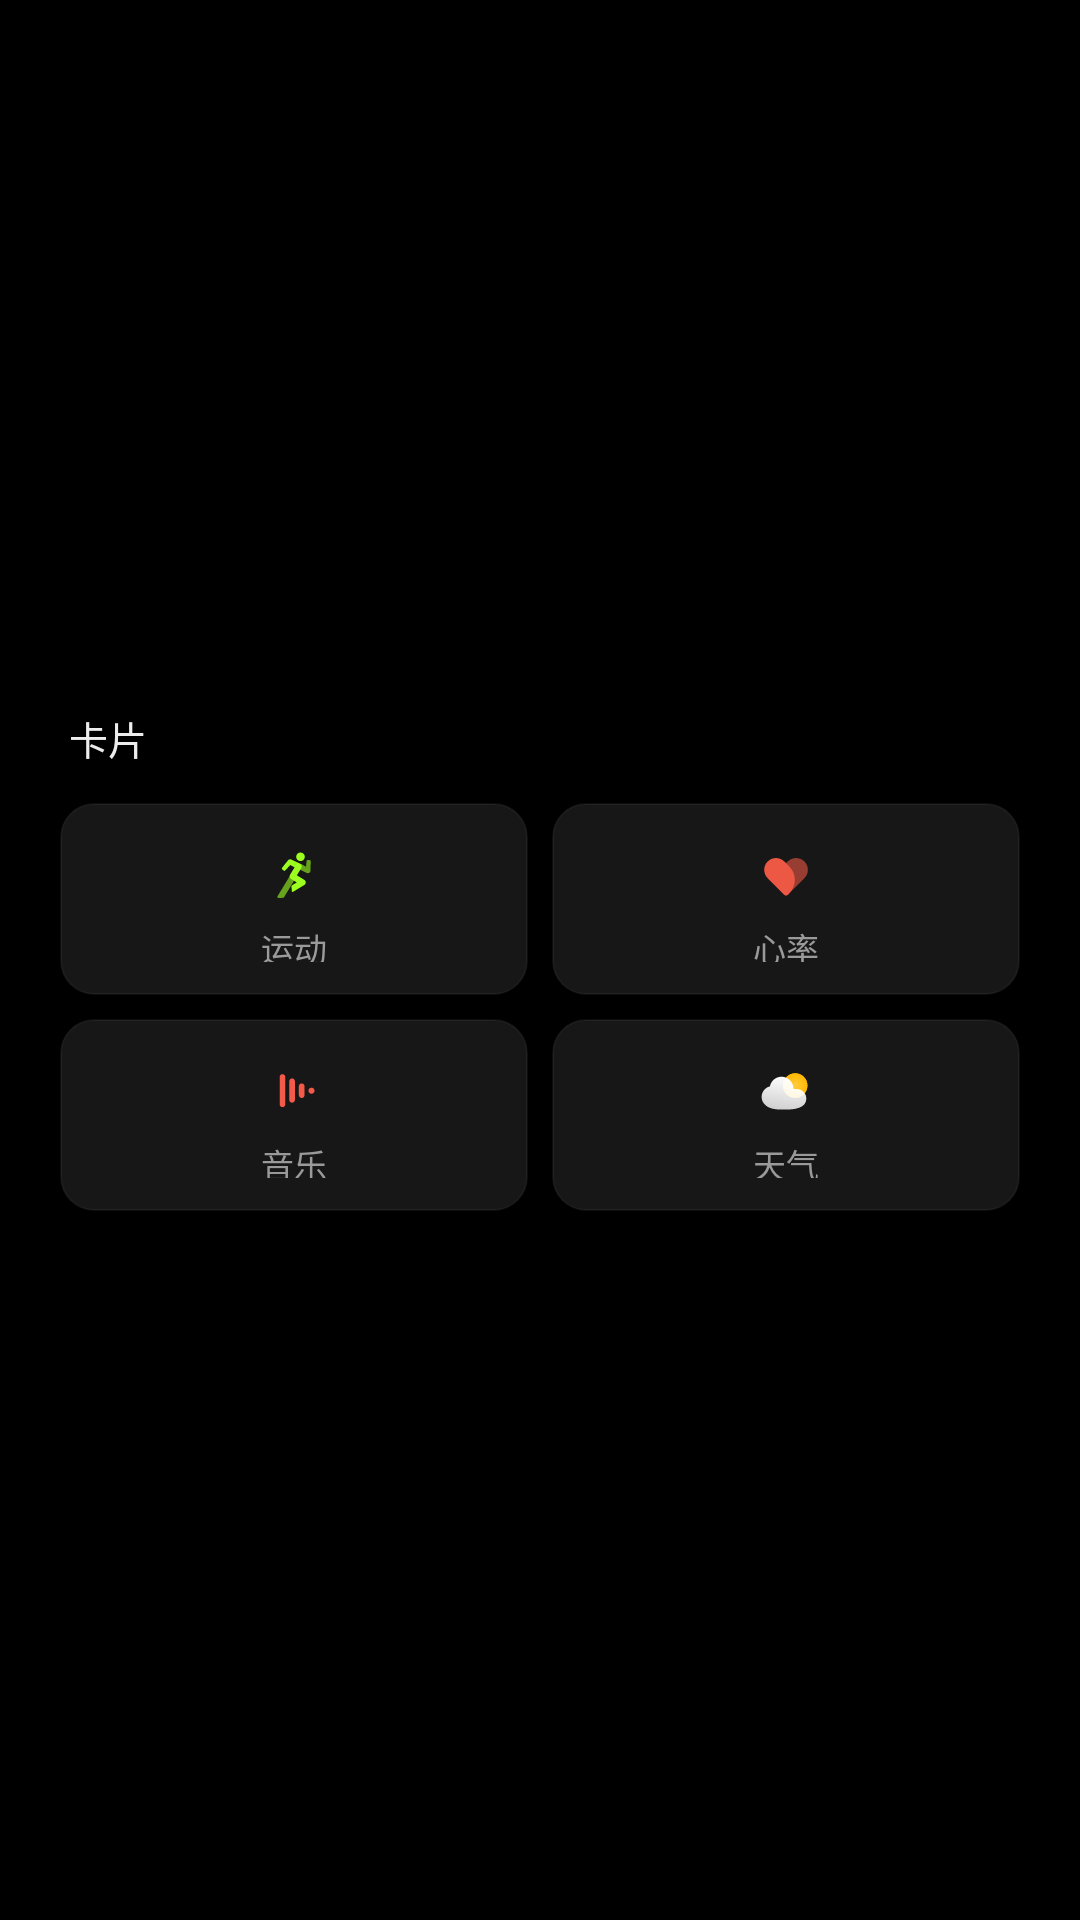

Icon click points for this 1080px×1920px phone screenshot, format [x,y]:
meida sessions: [297,1090]
